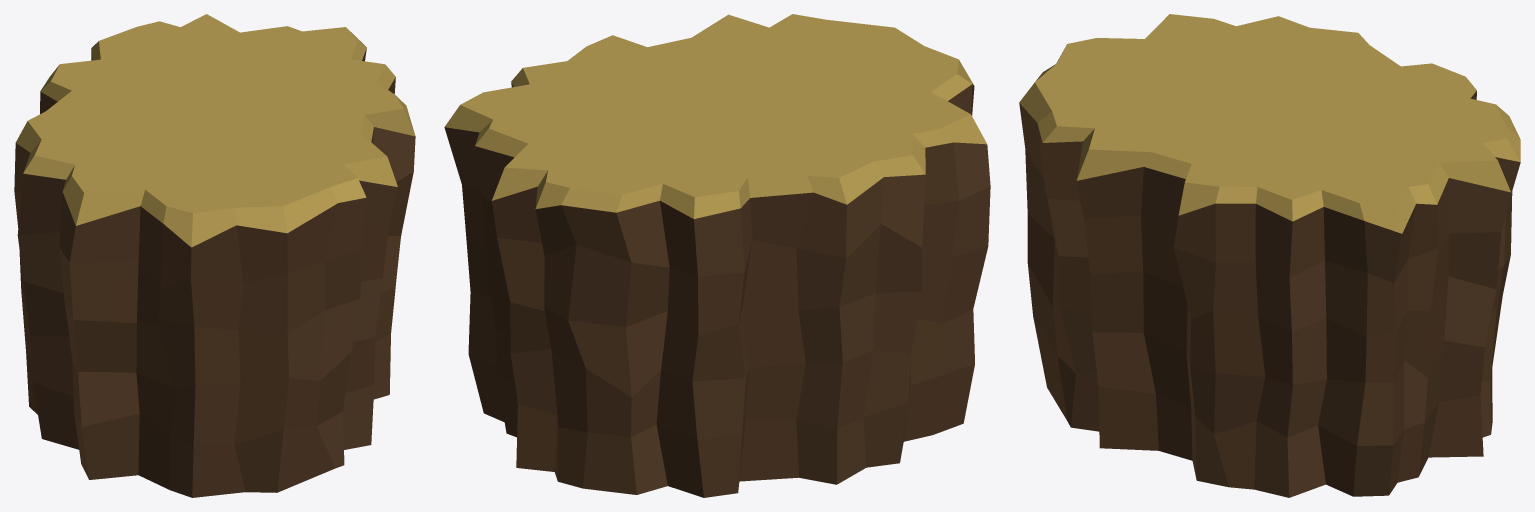
Rendered from cliff.fbx.
The picture shows the model from 3 angles, left to right: view 1: azimuth 30°, elevation 25°; view 2: azimuth 150°, elevation 25°; view 3: azimuth 270°, elevation 25°; orthographic projection. The views are drawn at different scales.
Parts seen in each view (by area): view 1: Plane; view 2: Plane; view 3: Plane.
Boxes of the visible parts, bbox=[...] form: Plane: bbox=[14, 14, 415, 497]; Plane: bbox=[444, 14, 990, 497]; Plane: bbox=[1019, 14, 1520, 497].
Bounding box in the file's own units: 1747 × 1224 × 1821.
